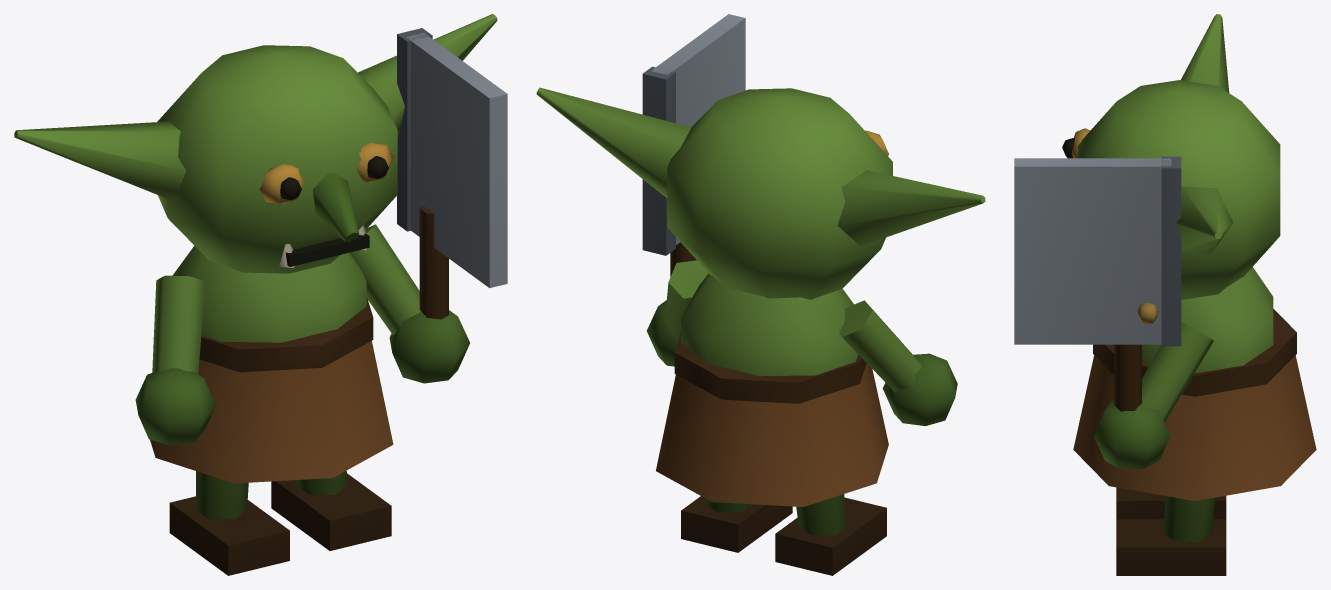
The model's file is goblin.glb.
The picture shows the model from 3 angles, left to right: view 1: azimuth 30°, elevation 25°; view 2: azimuth 150°, elevation 25°; view 3: azimuth 270°, elevation 25°; orthographic projection. The views are drawn at different scales.
Parts seen in each view (by area): view 1: goblin_model; view 2: goblin_model; view 3: goblin_model.
Boxes of the visible parts, box(x1,y1,x2,y2) form: goblin_model: box(14, 14, 507, 575); goblin_model: box(536, 14, 985, 575); goblin_model: box(1014, 14, 1316, 575).
Size of the model in its own units: 1.33 by 1.26 by 0.77.
